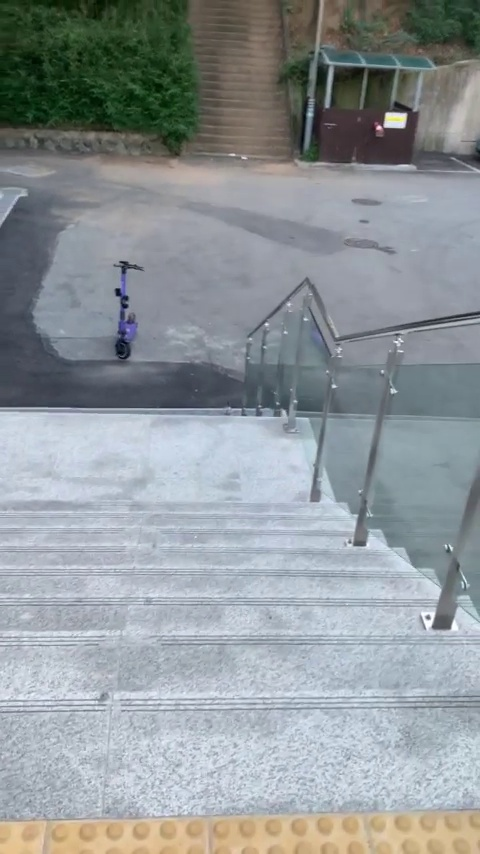beam: (105, 251, 150, 367)
